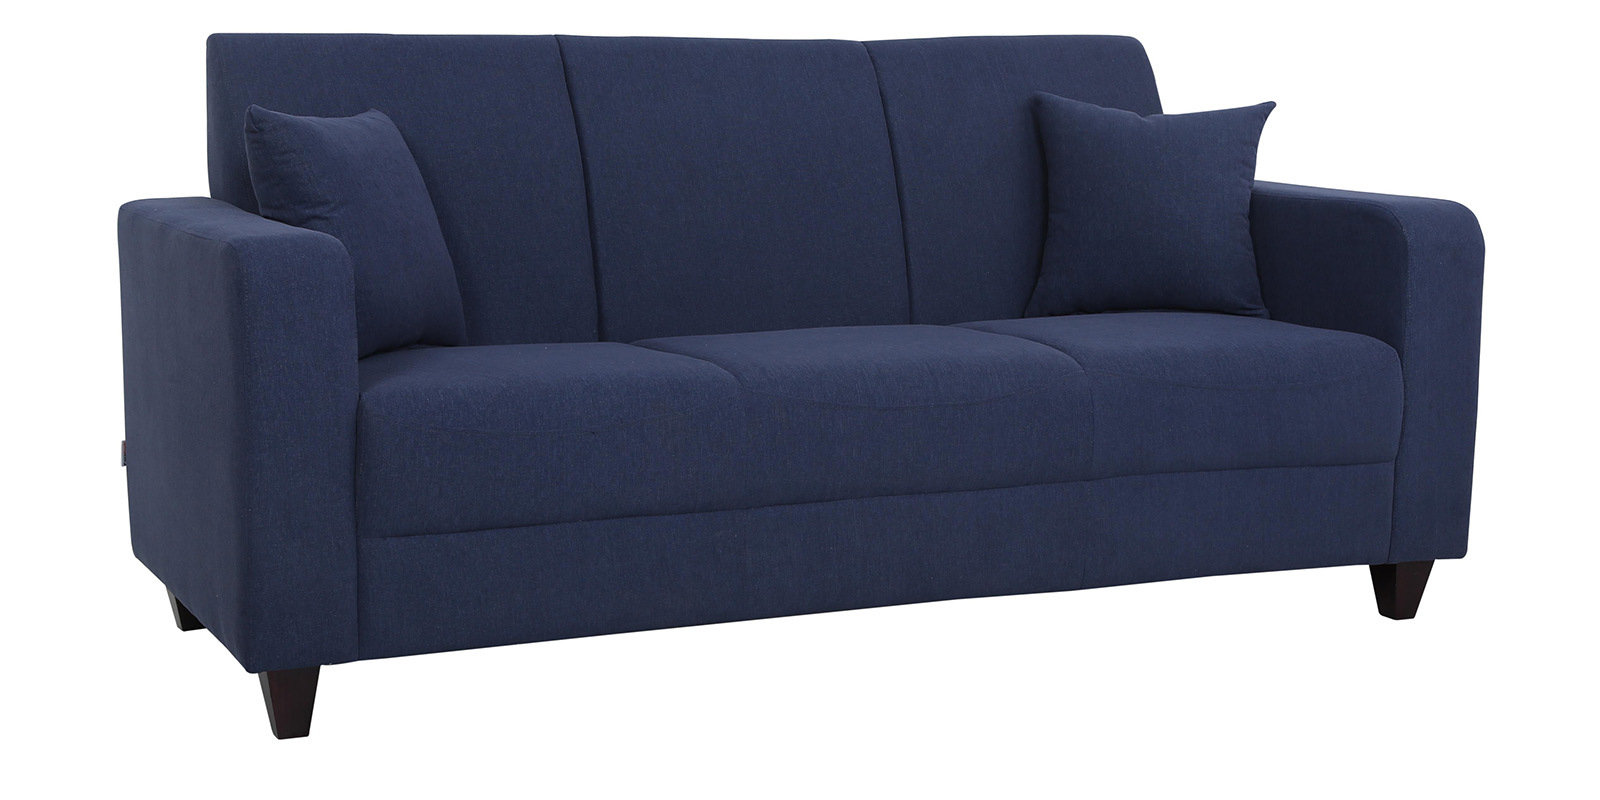Alba Three Seater Sofa in Navy Blue Colour by CasaCraft: (102, 23, 1492, 752)
